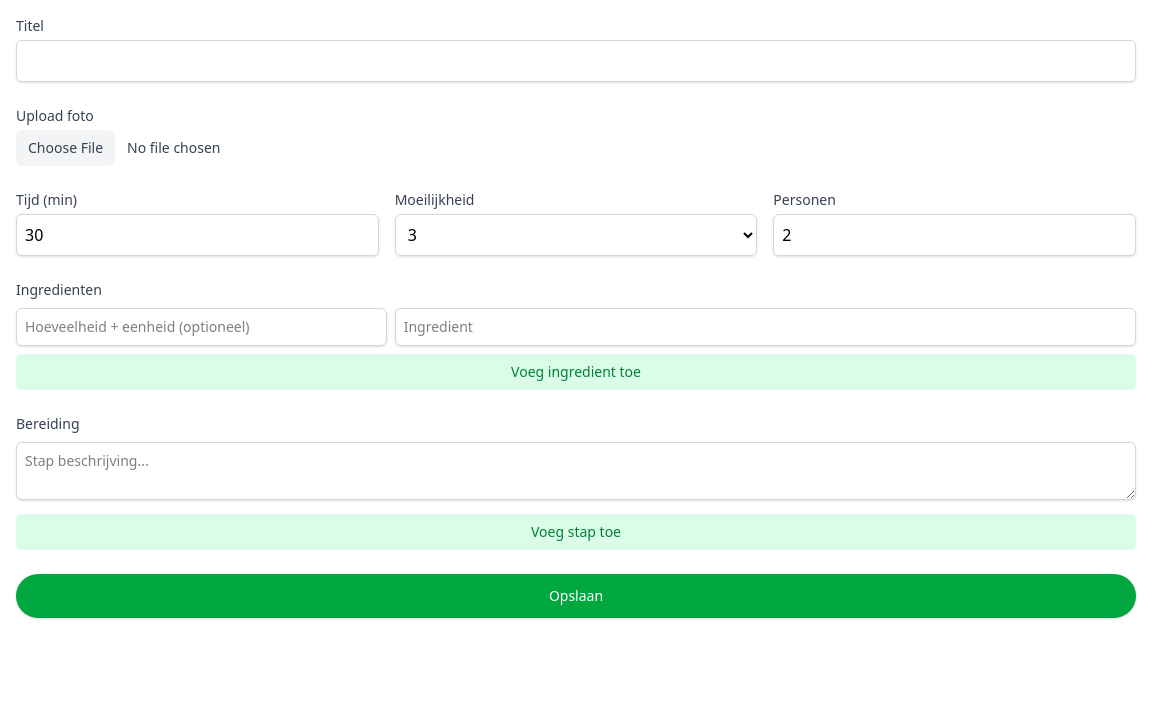
Scenario: RecipeForm › valideert dat minimaal één ingrediënt nodig is
Type "Pasta" into the field labelled "Titel" at (576, 61), box x1=16 y1=40 x2=1136 y2=82
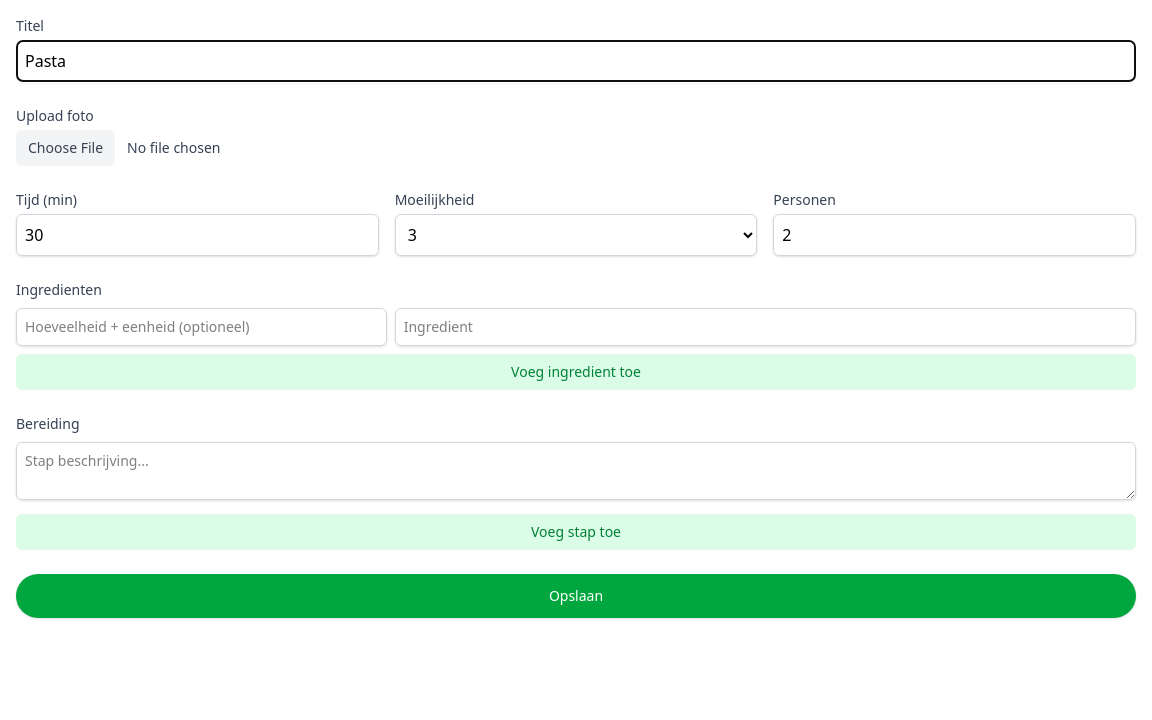
Click the button "Opslaan" at (576, 596), box x1=16 y1=574 x2=1136 y2=618
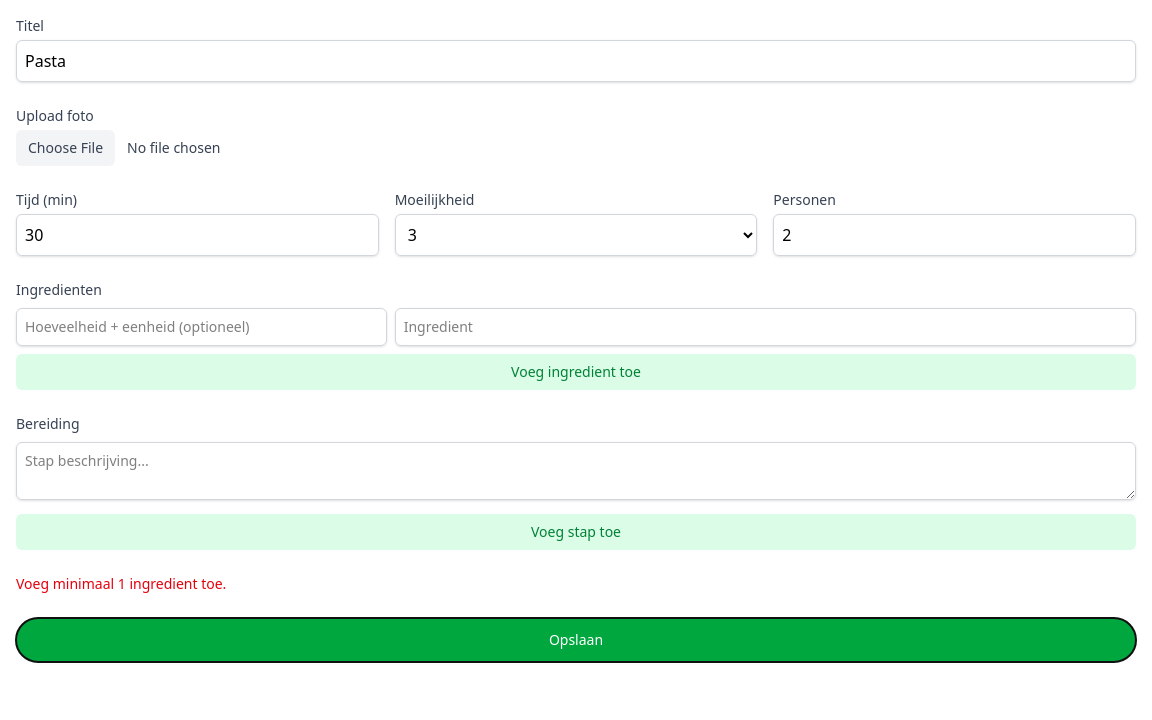
expect the text "Voeg minimaal 1 ingredient toe." is shown: met, box x1=16 y1=574 x2=226 y2=593
